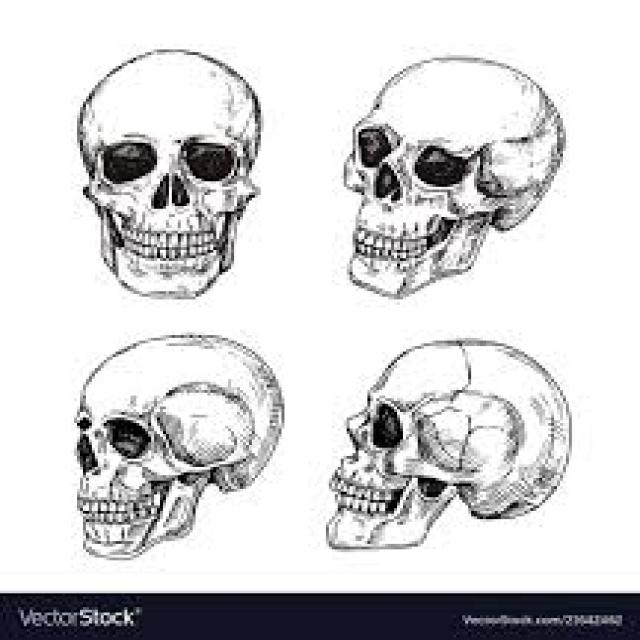skull: (59, 310, 294, 580)
